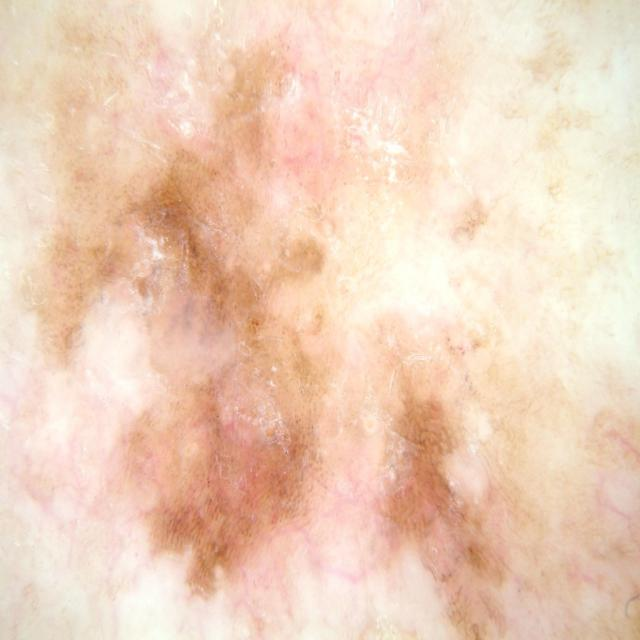Skin-Cancer Seborrheic keratosis: (1, 6, 639, 640)
